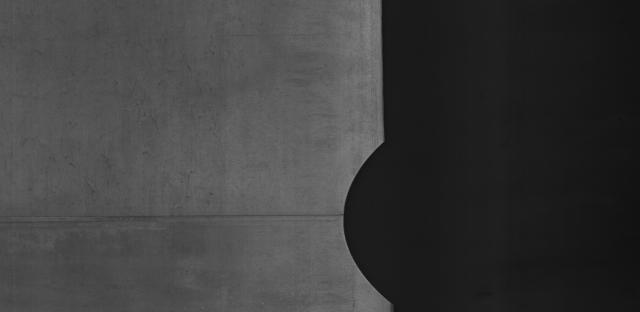crescent_gap: (336, 134, 417, 312)
welding_line: (1, 202, 360, 229)
